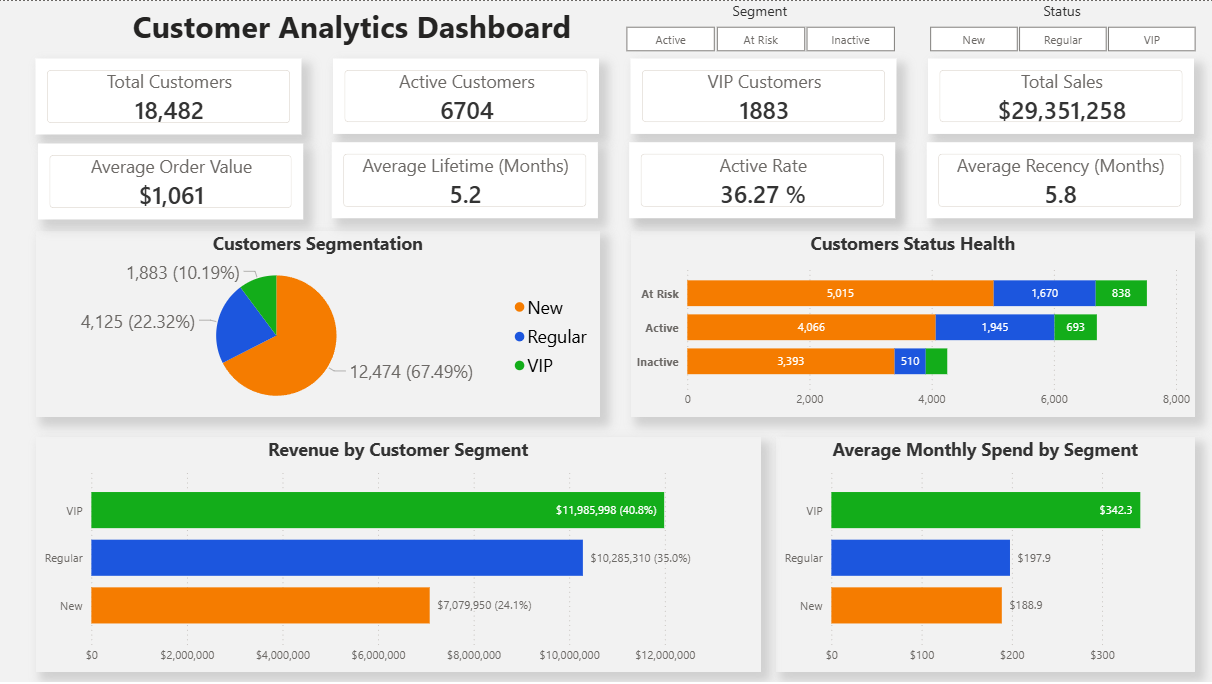

The dashboard page shown, as its layout file describes it:
{"tool":"powerbi","page":{"name":"Executive Overview","canvas":[1280,720],"ordinal":0},"visuals":[{"type":"group","id":"g1","title":"Grupo 1","box":[39.2,60.5,1219.2,80.1],"z":0},{"type":"cardVisual","fields":{"Data":["Measures (3).Total Customers"]},"box":[39.2,60.5,280,80],"z":0,"group":"g1"},{"type":"cardVisual","fields":{"Data":["Measures (3).Average Order Value"]},"box":[42.4,150.2,279.4,80.1],"z":0,"group":"g2"},{"type":"cardVisual","fields":{"Data":["Measures (3).Active Customers"]},"box":[352,60.5,280.4,79.3],"z":1000,"group":"g1"},{"type":"group","id":"g2","title":"Grupo 1","box":[42.4,149.1,1216.5,81.2],"z":1000},{"type":"cardVisual","fields":{"Data":["Measures (3).Average Lifetime"]},"box":[352.2,149.1,280.4,80],"z":1000,"group":"g2"},{"type":"cardVisual","fields":{"Data":["Measures (3).VIP Customers"]},"box":[665.2,60.5,280.4,79.3],"z":2000,"group":"g1"},{"type":"cardVisual","fields":{"Data":["Measures (3).Retention Rate"]},"box":[665.4,149.1,280.4,80],"z":2000,"group":"g2"},{"type":"pieChart","title":"Customers Segmentation","fields":{"Y":["Measures (3).Total Customers"],"Category":["report_customers.customer_segment"]},"box":[39.2,242.1,594.4,195.8],"z":2000},{"type":"cardVisual","fields":{"Data":["Measures (3).Total Sales"]},"box":[978.4,60.5,280.4,79.3],"z":3000,"group":"g1"},{"type":"cardVisual","fields":{"Data":["Measures (3).Average Recency"]},"box":[978.6,149.1,280.4,80],"z":3000,"group":"g2"},{"type":"barChart","title":"Customers Status Health","fields":{"Category":["report_customers.user_status"],"Series":["report_customers.customer_segment"],"Y":["Measures (3).Total Customers"]},"box":[665.6,242.1,594.4,195.8],"z":3000},{"type":"clusteredBarChart","title":"Revenue by Customer Segment","fields":{"Category":["report_customers.customer_segment"],"Y":["Measures (3).Total Sales"]},"box":[39.2,459.2,763.5,247.4],"z":4000},{"type":"textbox","box":[48.1,0,647.8,60.5],"z":5000},{"type":"slicer","title":"Segment","fields":{"Values":["report_customers.user_status"]},"box":[640.7,0,322.1,55.2],"z":6000},{"type":"slicer","title":"Status","fields":{"Values":["report_customers.customer_segment"]},"box":[961.1,0,319,55],"z":7000},{"type":"barChart","title":"Average Monthly Spend by Segment","fields":{"Category":["report_customers.customer_segment"],"Y":["Avg(report_customers.avg_monthly_spend)"]},"box":[818.7,459.2,441.4,247.4],"z":8000}]}

Visuals, with their boxes in screenshot pixels (x1, y1, x2, y2), scaled from the page's 1280x720 canvas onto the 1212x684 screenshot:
"Grupo 1" group: detection(37, 57, 1192, 134)
cardVisual - Measures (3).Total Customers: detection(37, 57, 302, 133)
cardVisual - Measures (3).Average Order Value: detection(40, 143, 305, 219)
cardVisual - Measures (3).Active Customers: detection(333, 57, 599, 133)
"Grupo 1" group: detection(40, 142, 1192, 219)
cardVisual - Measures (3).Average Lifetime: detection(333, 142, 599, 218)
cardVisual - Measures (3).VIP Customers: detection(630, 57, 895, 133)
cardVisual - Measures (3).Retention Rate: detection(630, 142, 896, 218)
"Customers Segmentation" pieChart: detection(37, 230, 600, 416)
cardVisual - Measures (3).Total Sales: detection(926, 57, 1192, 133)
cardVisual - Measures (3).Average Recency: detection(927, 142, 1192, 218)
"Customers Status Health" barChart: detection(630, 230, 1193, 416)
"Revenue by Customer Segment" clusteredBarChart: detection(37, 436, 760, 671)
textbox: detection(46, 0, 659, 57)
"Segment" slicer: detection(607, 0, 912, 52)
"Status" slicer: detection(910, 0, 1211, 52)
"Average Monthly Spend by Segment" barChart: detection(775, 436, 1193, 671)
